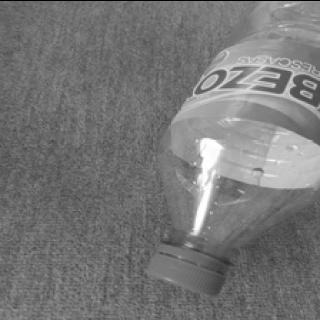plastic_bottles: (144, 0, 320, 296)
